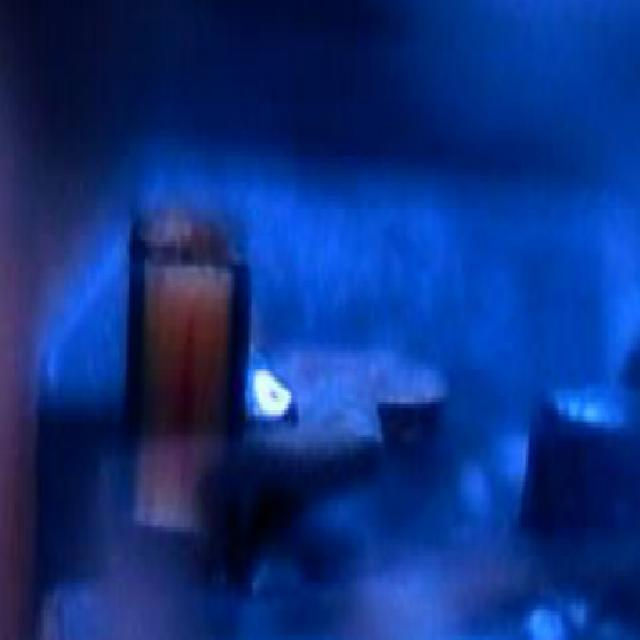No Good: (240, 319, 306, 445)
